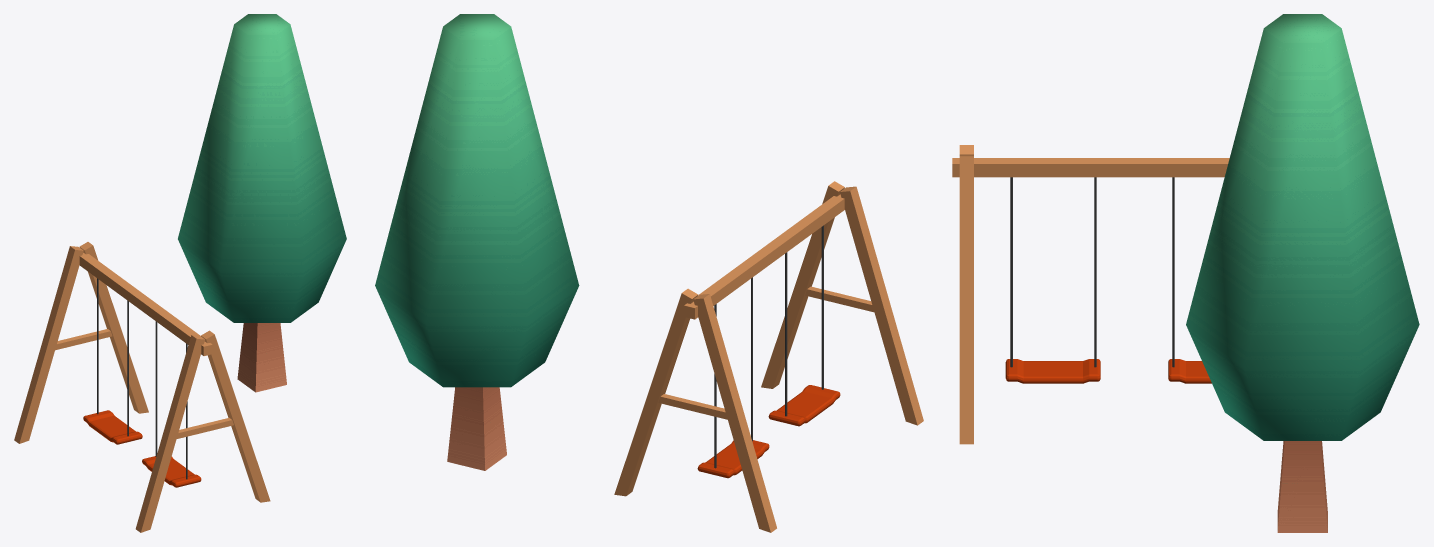
File: medium_park.glb
The picture shows the model from 3 angles, left to right: view 1: azimuth 30°, elevation 25°; view 2: azimuth 150°, elevation 25°; view 3: azimuth 270°, elevation 25°; orthographic projection. The views are drawn at different scales.
Parts seen in each view (by area): view 1: medium_park; view 2: medium_park; view 3: medium_park.
Part boxes in pixels (left/top/right/bottom): medium_park: left=14, top=14, right=346, bottom=532; medium_park: left=375, top=14, right=923, bottom=532; medium_park: left=952, top=14, right=1419, bottom=532.
Bounding box in the file's own units: 20.51 × 22.68 × 19.44.
Materials: 2 (2 with a texture image).
